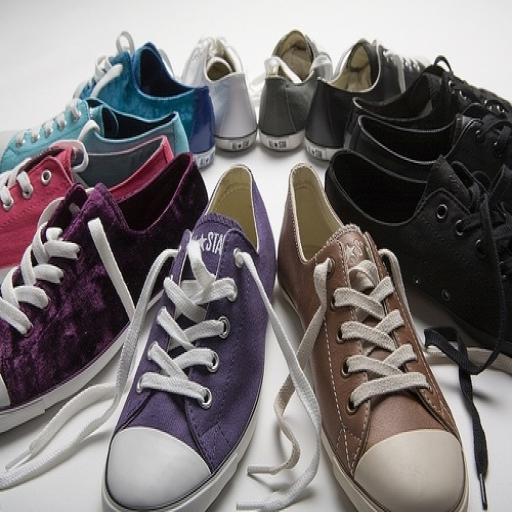shoe: (324, 149, 512, 509), (277, 164, 467, 512), (102, 164, 275, 512), (0, 152, 208, 432), (324, 149, 512, 356), (0, 137, 173, 274), (74, 32, 215, 168), (349, 103, 512, 205), (305, 38, 427, 160), (346, 57, 512, 146), (0, 98, 189, 172), (258, 29, 332, 151), (181, 37, 257, 151)
